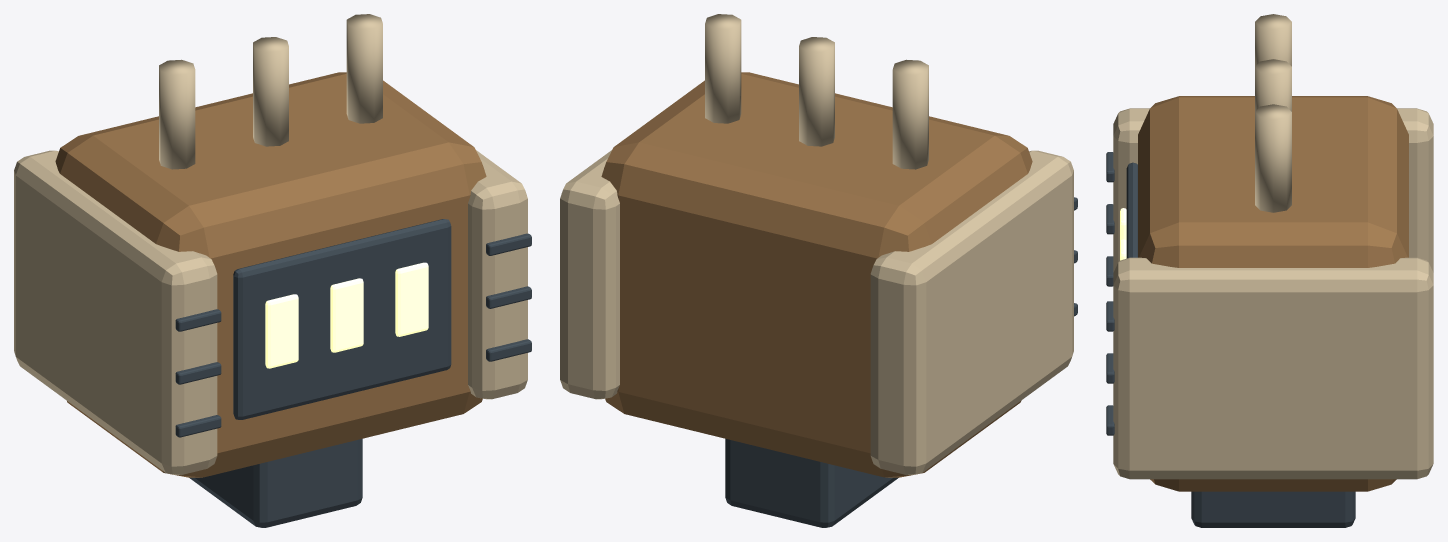
File: skill-module.glb
The picture shows the model from 3 angles, left to right: view 1: azimuth 30°, elevation 25°; view 2: azimuth 150°, elevation 25°; view 3: azimuth 270°, elevation 25°; orthographic projection.
Visible parts, largest first — view 1: body_hull.008, body_ceramic.008, body_dark.008, body_light.008; view 2: body_hull.008, body_ceramic.008, body_dark.008; view 3: body_ceramic.008, body_hull.008, body_dark.008.
Part boxes in pixels (box(x1,y1,x2,y2)): body_hull.008: box(55, 72, 486, 477); body_ceramic.008: box(14, 14, 527, 474); body_dark.008: box(175, 219, 531, 527); body_light.008: box(265, 262, 428, 368); body_hull.008: box(601, 72, 1032, 477); body_ceramic.008: box(560, 14, 1073, 474); body_dark.008: box(725, 197, 1077, 527); body_ceramic.008: box(1113, 14, 1433, 479); body_hull.008: box(1138, 96, 1408, 491); body_dark.008: box(1106, 152, 1355, 527).
Size of the model in its own units: 1.48 by 1.73 by 1.17.
